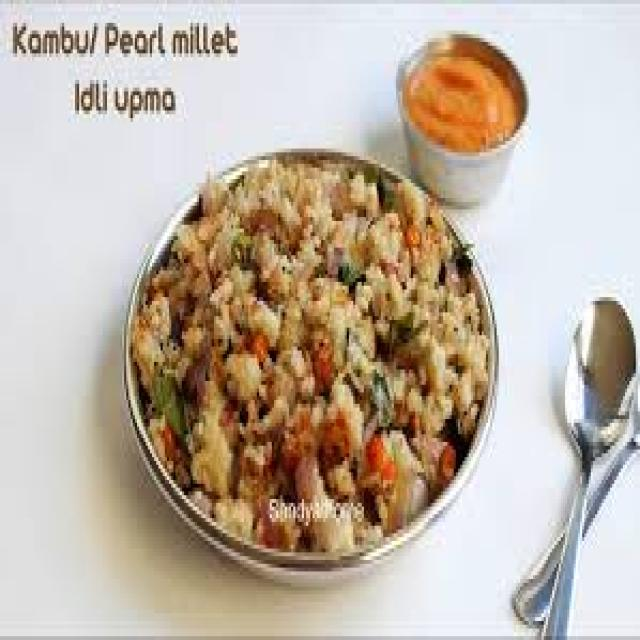UPMA: (128, 152, 492, 556)
